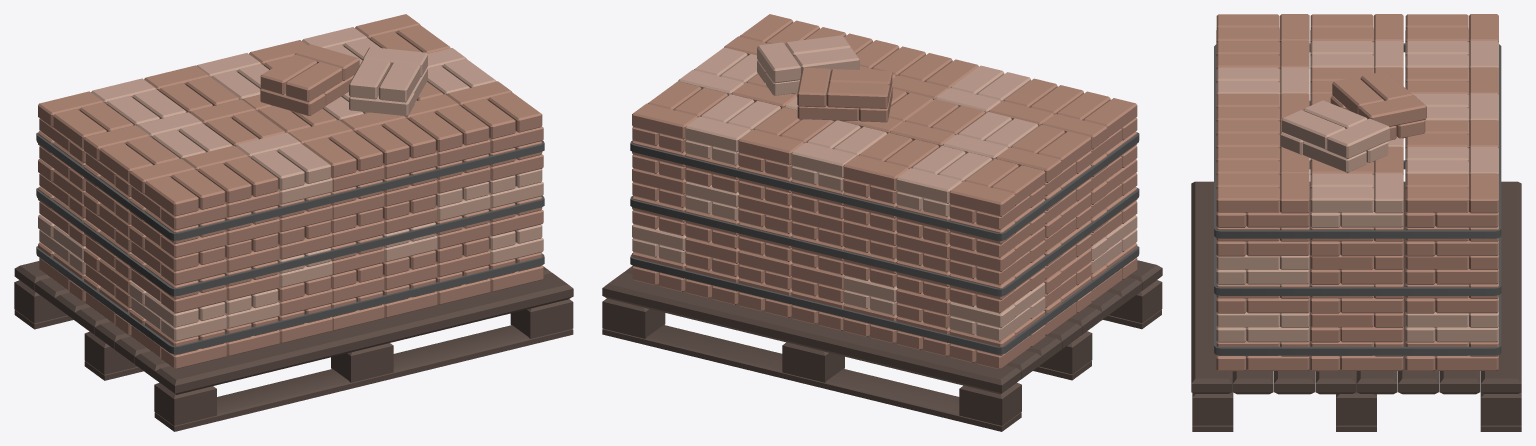
File: props_46.glb
The picture shows the model from 3 angles, left to right: view 1: azimuth 30°, elevation 25°; view 2: azimuth 150°, elevation 25°; view 3: azimuth 270°, elevation 25°; orthographic projection. The views are drawn at different scales.
Parts seen in each view (by area): view 1: props_46; view 2: props_46; view 3: props_46.
Boxes of the visible parts, x1,y1,x2,y2 form: props_46: [14, 14, 573, 431]; props_46: [602, 14, 1162, 431]; props_46: [1191, 14, 1521, 431].
Size of the model in its own units: 2.85 by 1.68 by 1.99.
1 material, 1 textured.
